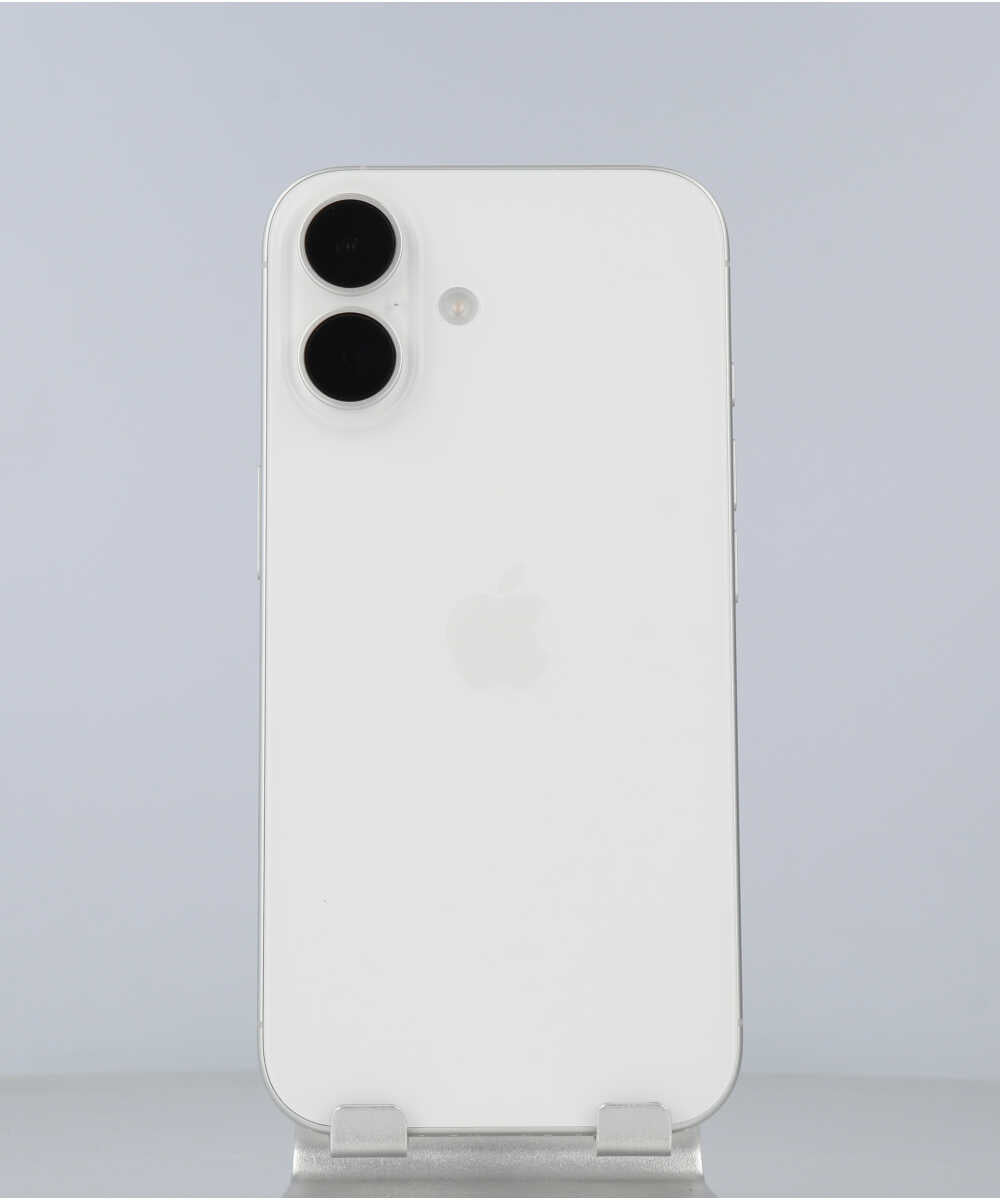iphone16_white: (222, 156, 769, 1156), (272, 171, 531, 441)
